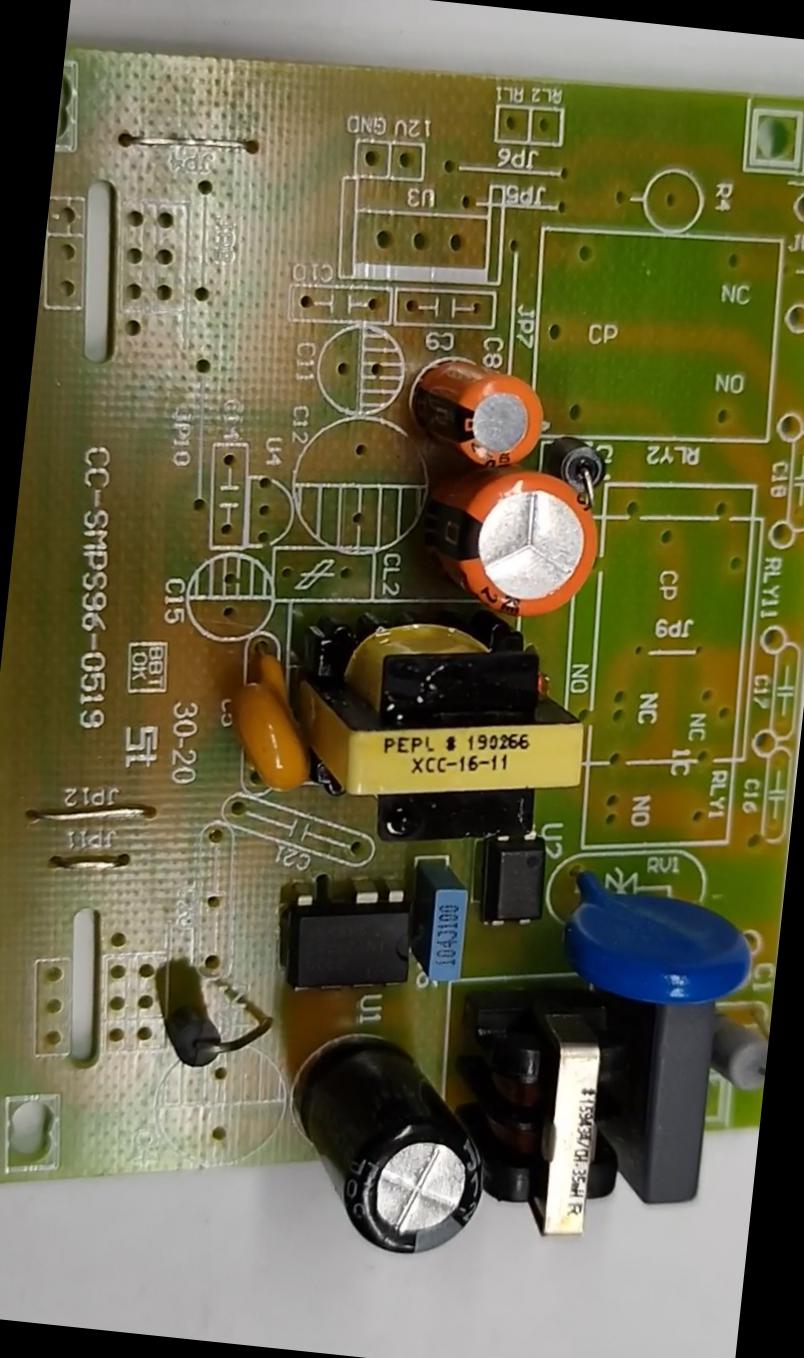Cap1: (441, 463, 602, 622)
Cap2: (407, 356, 546, 465)
Cap3: (277, 1030, 495, 1258)
MOSFET: (284, 878, 416, 998)
Mov: (562, 868, 764, 1009)
Resistor: (708, 1010, 770, 1098)
Transformer: (292, 608, 594, 850), (482, 1022, 632, 1240)
